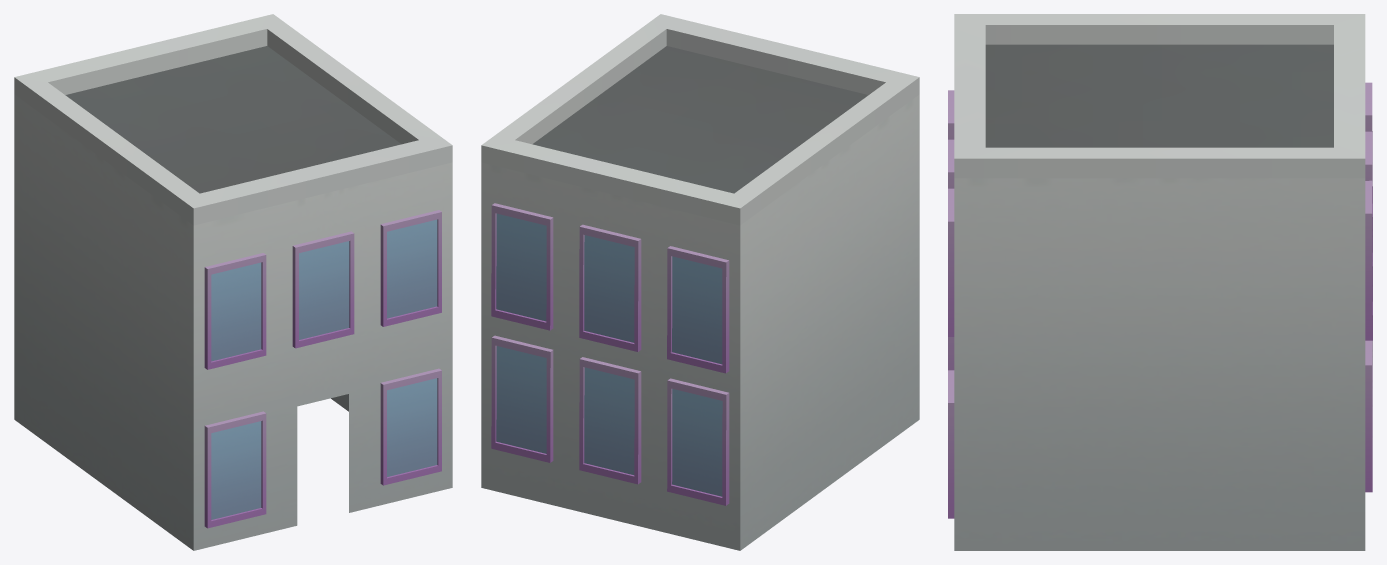
File: HuisS.fbx
3 renders of one model, left to right at view 1: azimuth 30°, elevation 25°; view 2: azimuth 150°, elevation 25°; view 3: azimuth 270°, elevation 25°, orthographic. The views are drawn at different scales.
Visible parts, largest first — view 1: HuisS; view 2: HuisS; view 3: HuisS.
Part boxes in pixels (x1,y1,x2,y2): HuisS: [14, 14, 452, 550]; HuisS: [481, 14, 919, 550]; HuisS: [948, 14, 1372, 550].
Bounding box in the file's own units: 500 × 632 × 620.
